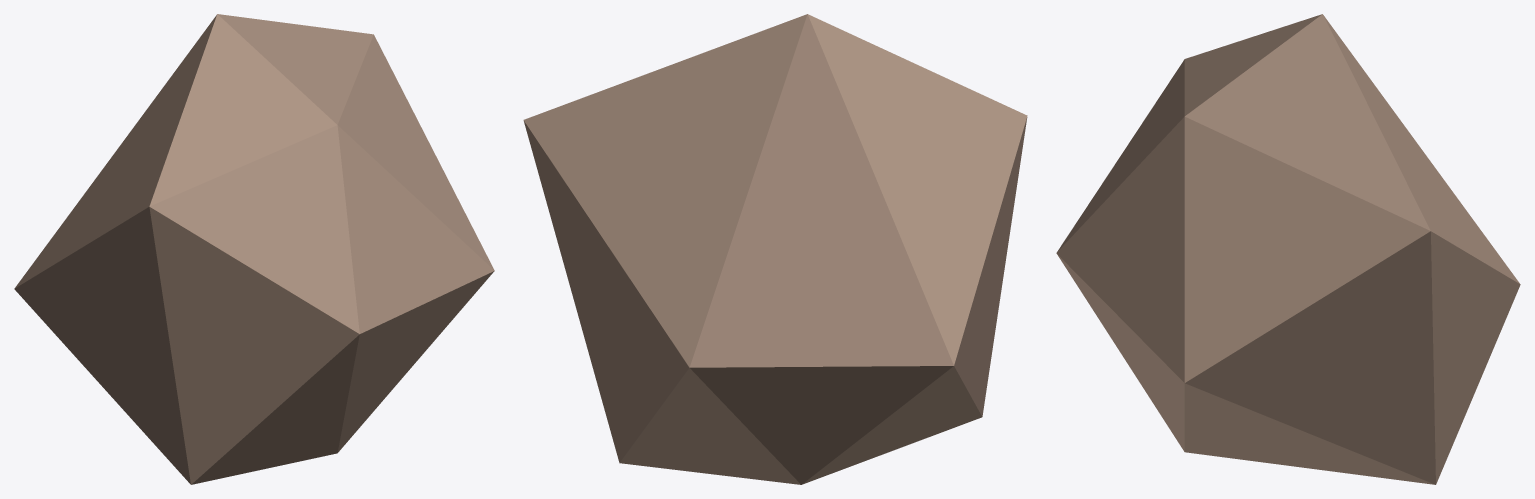
The model's file is Small_Rock_0.2,0.2,0.2_Colored.fbx.
The picture shows the model from 3 angles, left to right: view 1: azimuth 30°, elevation 25°; view 2: azimuth 150°, elevation 25°; view 3: azimuth 270°, elevation 25°; orthographic projection. The views are drawn at different scales.
Parts seen in each view (by area): view 1: Small_Rock_0_2_0_2_0_2; view 2: Small_Rock_0_2_0_2_0_2; view 3: Small_Rock_0_2_0_2_0_2.
Part boxes in pixels (x1,y1,x2,y2): Small_Rock_0_2_0_2_0_2: [14, 14, 494, 484]; Small_Rock_0_2_0_2_0_2: [523, 14, 1027, 484]; Small_Rock_0_2_0_2_0_2: [1056, 14, 1520, 484].
Size of the model in its own units: 18.68 by 18.97 by 19.37.
